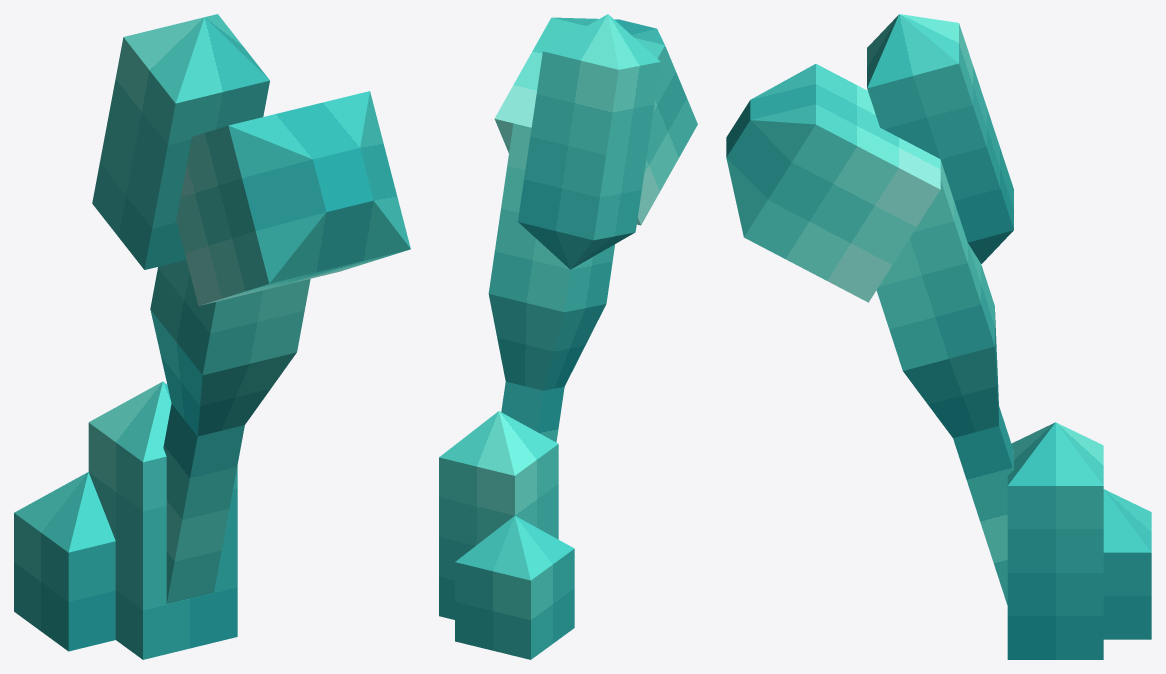
File: leg_ender_front_l.obj
The picture shows the model from 3 angles, left to right: view 1: azimuth 30°, elevation 25°; view 2: azimuth 150°, elevation 25°; view 3: azimuth 270°, elevation 25°; orthographic projection. The views are drawn at different scales.
Parts seen in each view (by area): view 1: LEG_ENDER_LEFTFRONT_Cube.006, ELEG_LEFTFRONT_DECO_DIAMOND_Cube.306; view 2: ELEG_LEFTFRONT_DECO_DIAMOND_Cube.306, LEG_ENDER_LEFTFRONT_Cube.006; view 3: LEG_ENDER_LEFTFRONT_Cube.006, ELEG_LEFTFRONT_DECO_DIAMOND_Cube.306.
Part boxes in pixels (x1,y1,x2,y2): LEG_ENDER_LEFTFRONT_Cube.006: (150, 91, 410, 603); ELEG_LEFTFRONT_DECO_DIAMOND_Cube.306: (14, 14, 269, 659); ELEG_LEFTFRONT_DECO_DIAMOND_Cube.306: (439, 14, 660, 659); LEG_ENDER_LEFTFRONT_Cube.006: (488, 17, 697, 442); LEG_ENDER_LEFTFRONT_Cube.006: (726, 64, 1013, 604); ELEG_LEFTFRONT_DECO_DIAMOND_Cube.306: (867, 14, 1151, 659).
Bounding box in the file's own units: 0.2188 × 0.8698 × 0.5538.
